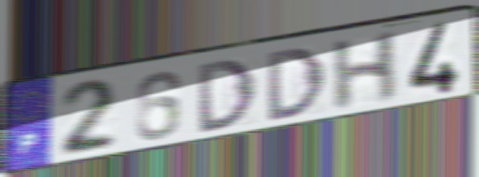2: (58, 78, 120, 162)
4: (406, 18, 463, 97)
6: (133, 69, 182, 143)
D: (264, 44, 329, 125), (195, 55, 260, 136)
H: (330, 28, 402, 115)
